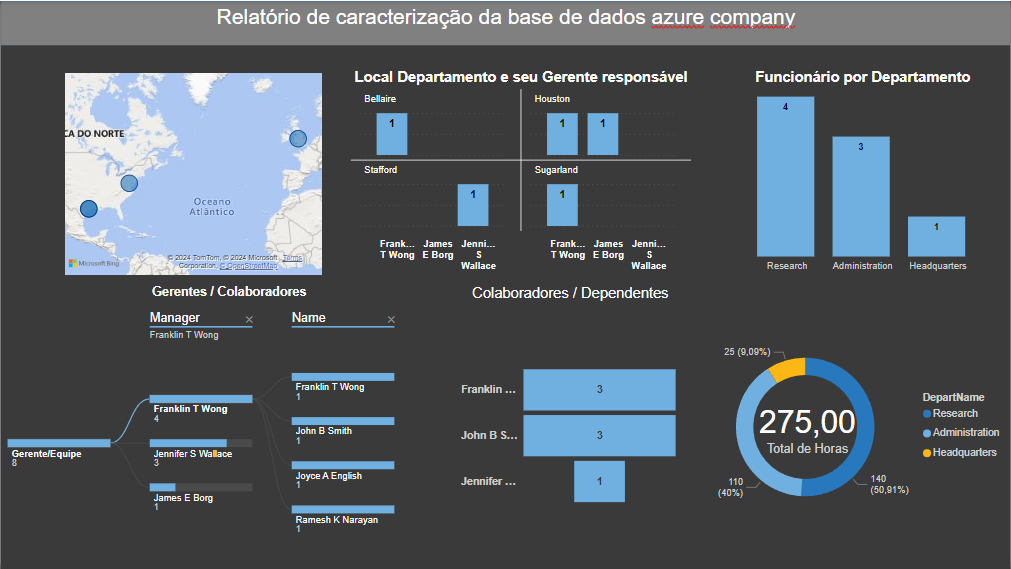

Layout of this report page (visuals, bound fields, positions):
{"tool":"powerbi","page":{"name":"Página 1","canvas":[1280,720],"ordinal":0},"visuals":[{"type":"shape","box":[0,0,1280.5,56.5],"z":0},{"type":"textbox","box":[0,0,1280.2,57],"z":1000},{"type":"donutChart","fields":{"Category":["azure_company depart_hours.DepartName"],"Y":["azure_company depart_hours.HoursWork"]},"box":[865.7,360,414.3,360],"z":2000},{"type":"card","fields":{"Values":["azure_company depart_hours.HoursWork"]},"box":[952.1,492,140.4,97.3],"z":3000},{"type":"funnel","title":"Colaboradores / Dependentes","fields":{"Category":["azure_company dependent.EmployeeName"],"Y":["azure_company dependent.Dependent_name"]},"box":[578.6,360,287.1,360],"z":4000},{"type":"lineStackedColumnComboChart","title":"Local Departamento e seu Gerente responsável","fields":{"Y":["azure_company depart_location.DepartName"],"Category":["azure_company depart_location.ManagerDepart"],"Rows":["azure_company depart_location.DepartLocation"]},"box":[438.6,85.7,441.4,265.7],"z":5000},{"type":"lineStackedColumnComboChart","title":"Funcionário por Departamento","fields":{"Category":["azure_company employee_depart.DepartName"],"Y":["azure_company employee_depart.Name"]},"box":[915.7,85.7,354.3,265.7],"z":6000},{"type":"decompositionTreeVisual","title":"Gerentes / Colaboradores","fields":{"ExplainBy":["azure_company employee_depart.Manager","azure_company employee_depart.Name"],"Analyze":["azure_company employee_depart.Manager"]},"box":[0,360,578.6,360],"z":7000},{"type":"map","fields":{"Category":["azure_company project.PorjectLocation"]},"box":[75.7,85.7,335.7,265.7],"z":7001}]}

Visuals, with their boxes in screenshot pixels (x1, y1, x2, y2), scaled from the page's 1280x720 canvas onto the 1011x569 screenshot:
shape: (left=0, top=0, right=1010, bottom=45)
textbox: (left=0, top=0, right=1010, bottom=45)
donutChart - azure_company depart_hours.DepartName x azure_company depart_hours.HoursWork: (left=684, top=284, right=1010, bottom=568)
card - azure_company depart_hours.HoursWork: (left=752, top=389, right=863, bottom=466)
"Colaboradores / Dependentes" funnel: (left=457, top=284, right=684, bottom=568)
"Local Departamento e seu Gerente responsável" lineStackedColumnComboChart: (left=346, top=68, right=695, bottom=278)
"Funcionário por Departamento" lineStackedColumnComboChart: (left=723, top=68, right=1003, bottom=278)
"Gerentes / Colaboradores" decompositionTreeVisual: (left=0, top=284, right=457, bottom=568)
map - azure_company project.PorjectLocation: (left=60, top=68, right=325, bottom=278)
